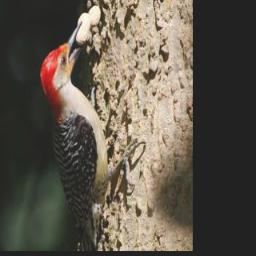Woodpecker: (40, 21, 149, 248)
